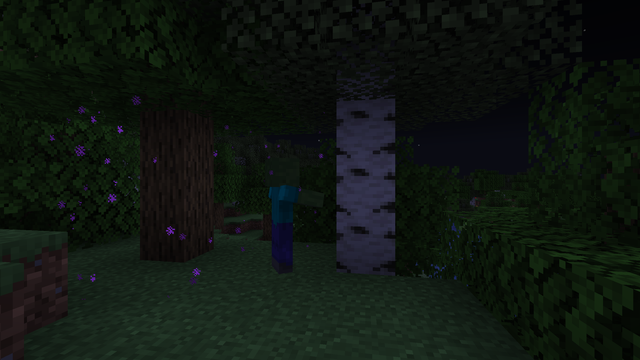zombies: (259, 160, 301, 275)
